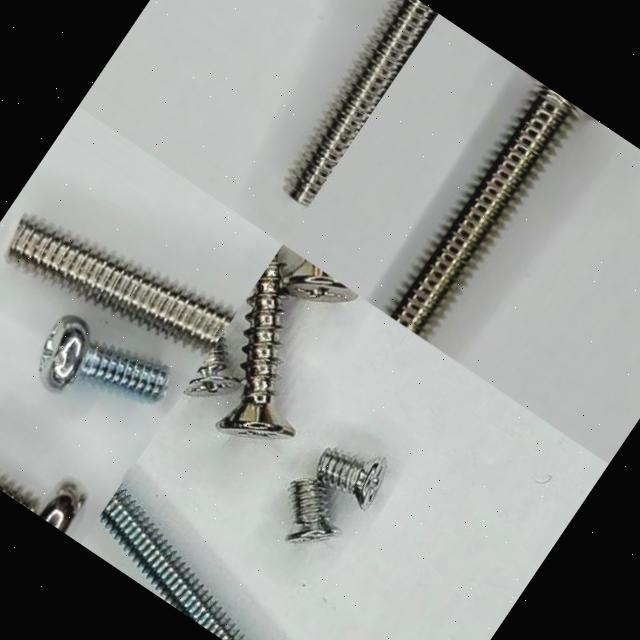Screw: (388, 77, 597, 340), (285, 0, 438, 208), (8, 216, 237, 354), (98, 486, 244, 640), (216, 253, 295, 439), (40, 315, 170, 402), (0, 475, 86, 534), (316, 448, 386, 510), (183, 333, 239, 396), (286, 481, 341, 543), (283, 259, 358, 303)
